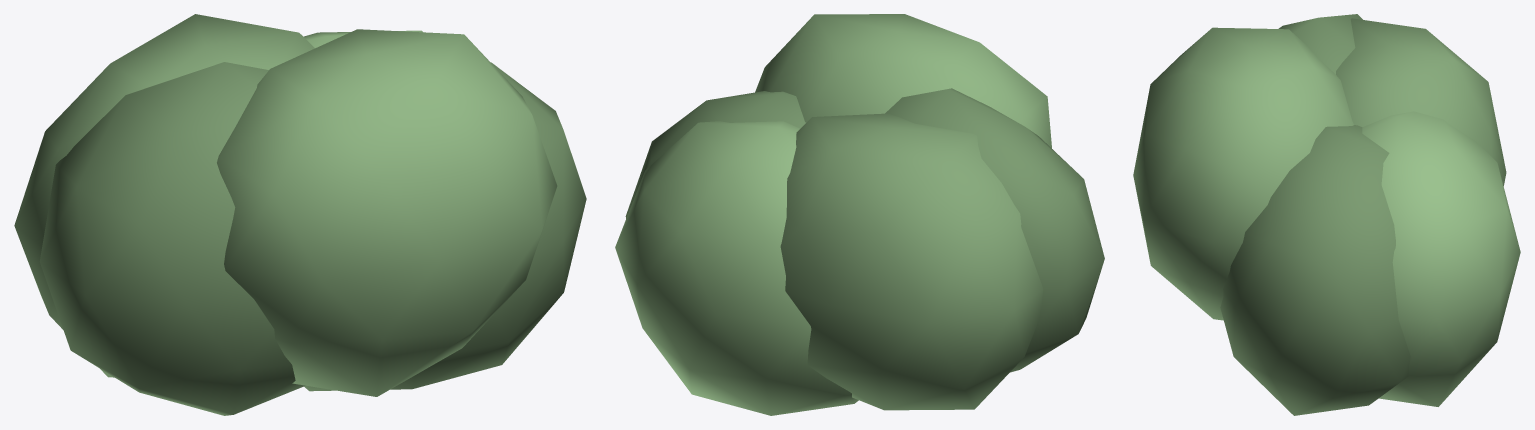
The model's file is env_shrub_round_a_v001.glb.
3 renders of one model, left to right at view 1: azimuth 30°, elevation 25°; view 2: azimuth 150°, elevation 25°; view 3: azimuth 270°, elevation 25°, orthographic. The views are drawn at different scales.
Visible parts, largest first — view 1: env_shrub_round_a_LOD0_mesh; view 2: env_shrub_round_a_LOD0_mesh; view 3: env_shrub_round_a_LOD0_mesh.
Part boxes in pixels (x1=…): env_shrub_round_a_LOD0_mesh: x1=14, y1=14, x2=586, y2=415; env_shrub_round_a_LOD0_mesh: x1=615, y1=14, x2=1104, y2=415; env_shrub_round_a_LOD0_mesh: x1=1133, y1=14, x2=1520, y2=415.
Bounding box in the file's own units: 1.5 × 1.1 × 1.2.
